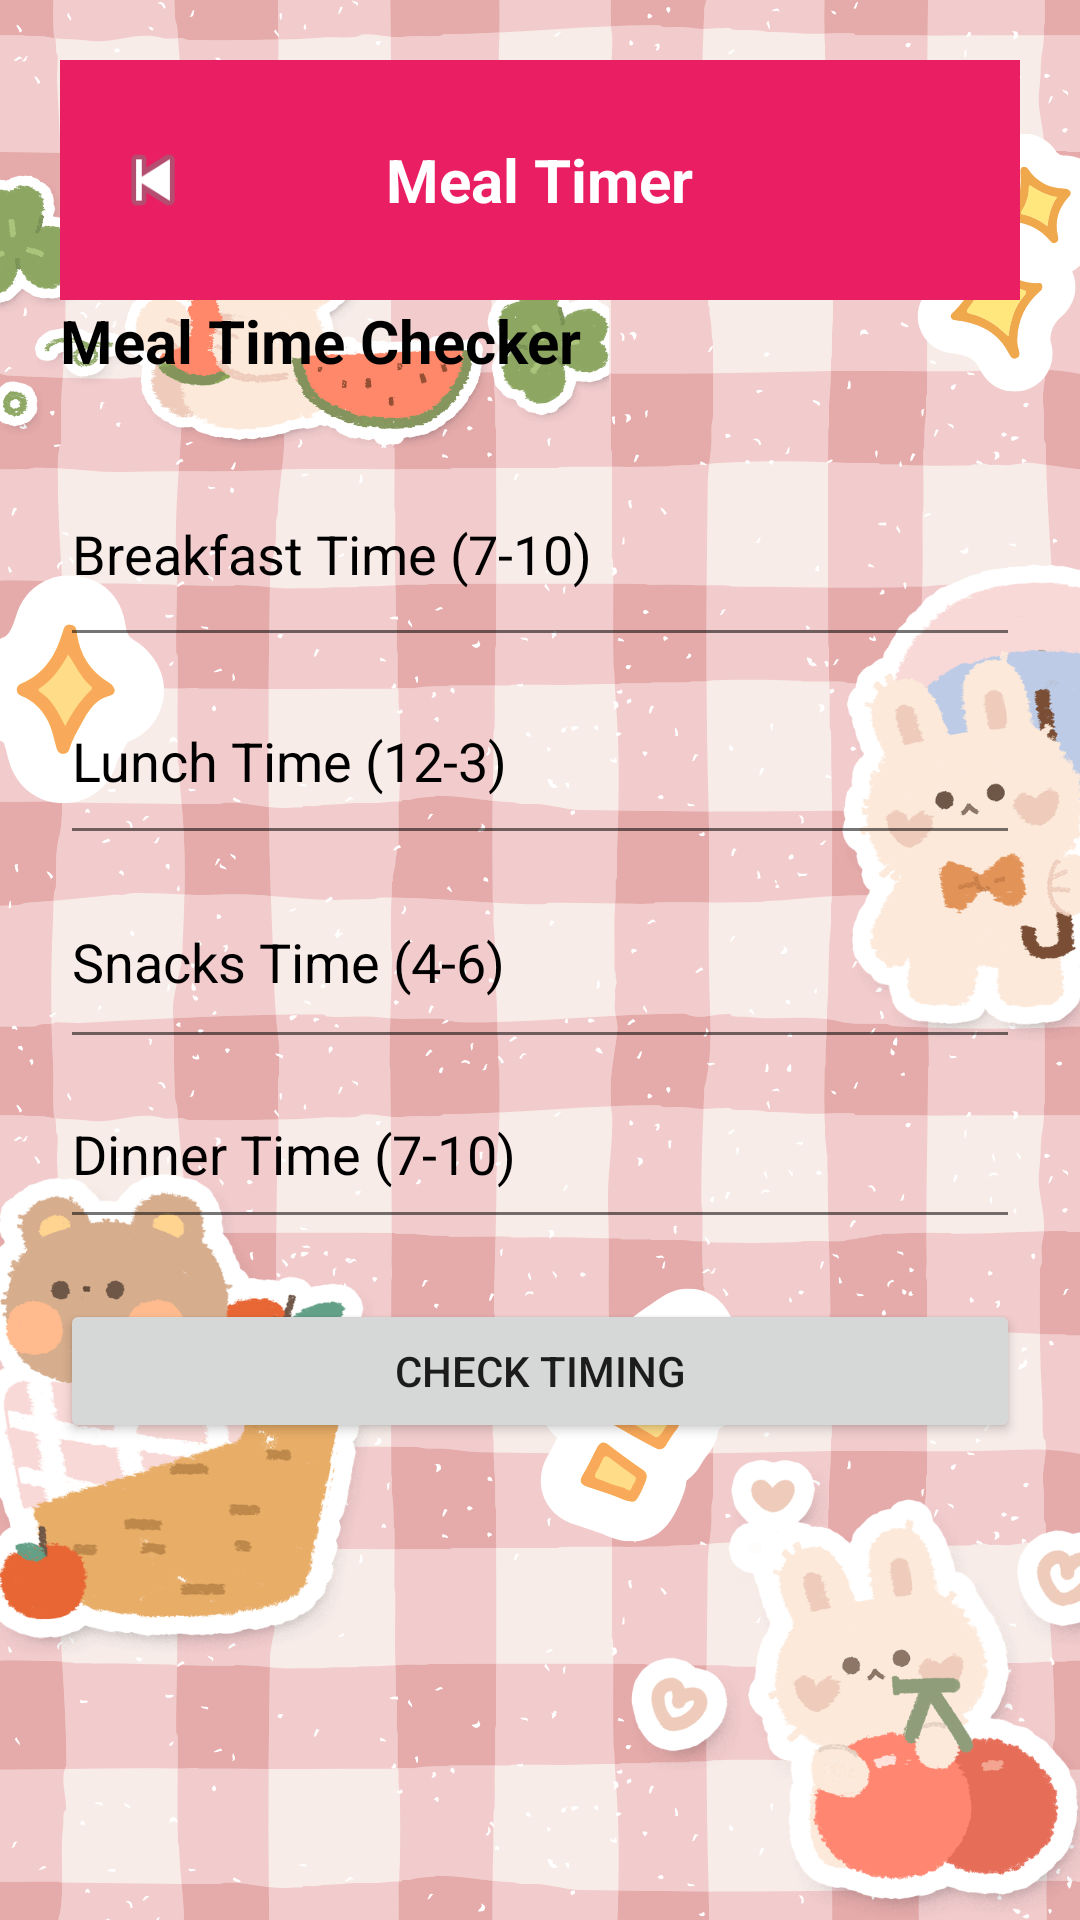

Screen size 1080×1920. Icon name, then its center in pixels as point (x, y):
previous: point (153, 180)
